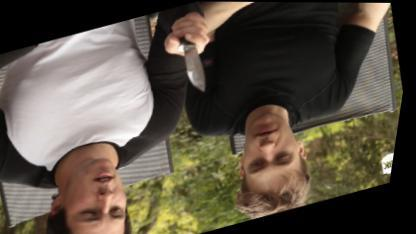knife: (156, 24, 224, 104)
